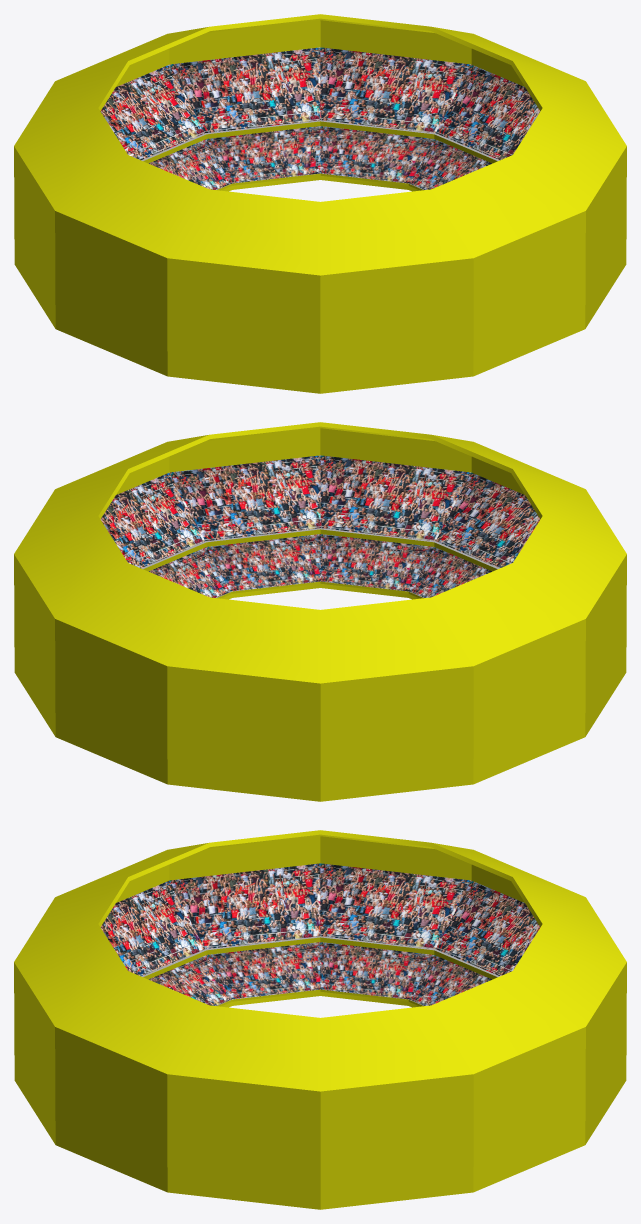
The model's file is stadium.fbx.
3 views of the same model, one above another, from view 1: azimuth 30°, elevation 25°; view 2: azimuth 150°, elevation 25°; view 3: azimuth 270°, elevation 25° (orthographic).
Visible parts, largest first — view 1: stadium; view 2: stadium; view 3: stadium.
Boxes of the visible parts, left/top/right/bottom form: stadium: left=14, top=14, right=626, bottom=393; stadium: left=14, top=422, right=626, bottom=801; stadium: left=14, top=830, right=626, bottom=1209.
Bounding box in the file's own units: 31901 × 8988 × 31901.
